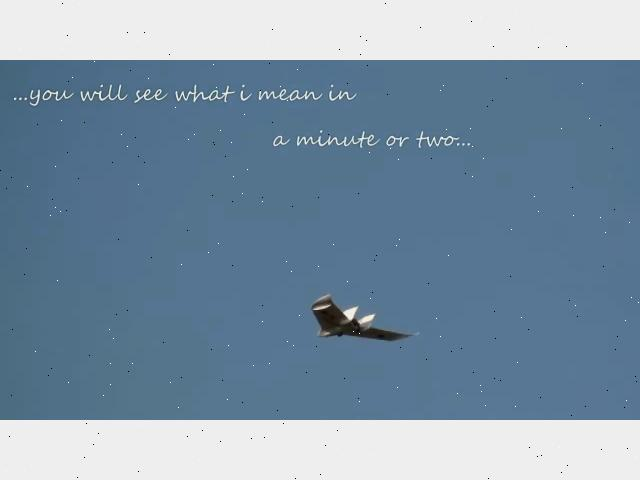Anti-Drone: (312, 295, 418, 341)
